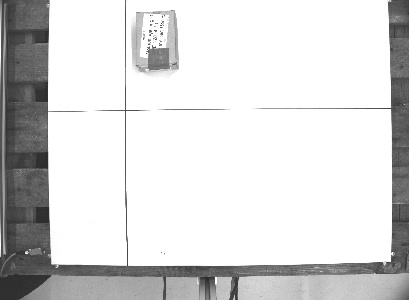b6: (131, 7, 181, 73)
